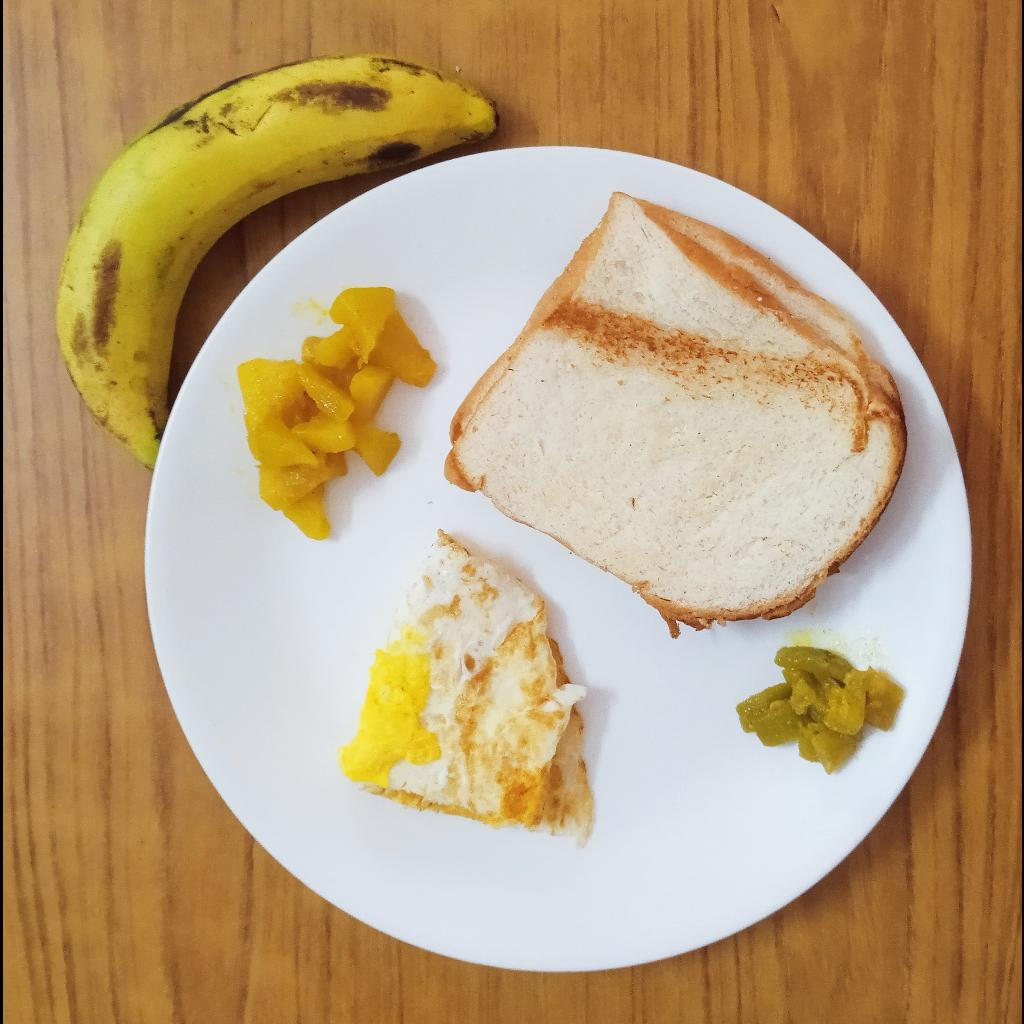banana: (52, 52, 496, 476)
bread: (442, 195, 909, 636)
dundol: (735, 647, 904, 779)
egg-poached: (334, 533, 594, 844)
kumra-vaji: (236, 289, 439, 544)
